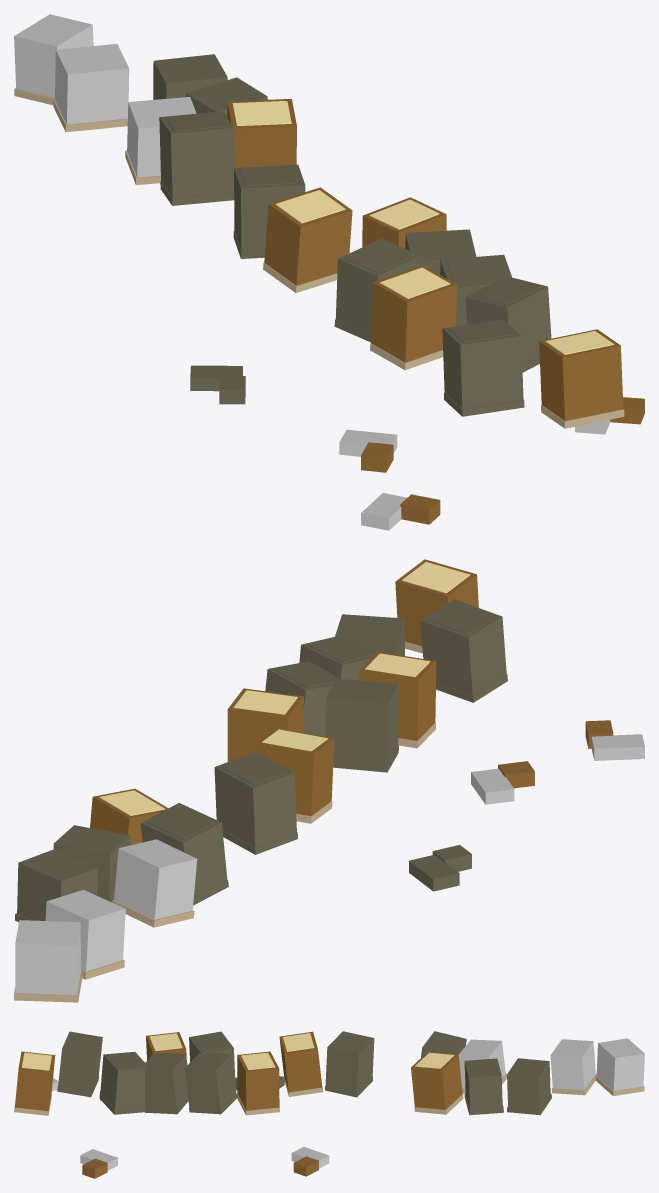
The model's file is SM_CargaViveres_Destrozado_LOD1.fbx.
3 views of the same model, one above another, from view 1: azimuth 30°, elevation 25°; view 2: azimuth 150°, elevation 25°; view 3: azimuth 270°, elevation 25° (orthographic). The views are drawn at different scales.
Visible parts, largest first — view 1: SM_carga_vagon_v19_LOD1; view 2: SM_carga_vagon_v19_LOD1; view 3: SM_carga_vagon_v19_LOD1.
Boxes of the visible parts, <box> form: SM_carga_vagon_v19_LOD1: <box>14,14,644,530</box>; SM_carga_vagon_v19_LOD1: <box>14,559,644,1002</box>; SM_carga_vagon_v19_LOD1: <box>14,1031,644,1178</box>.
Size of the model in its own units: 6.88 by 2.69 by 18.16.
